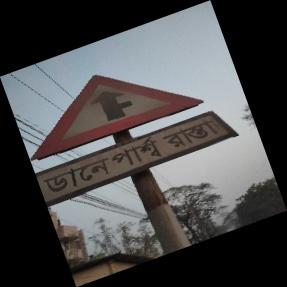Side-road-right: (29, 74, 223, 210)
